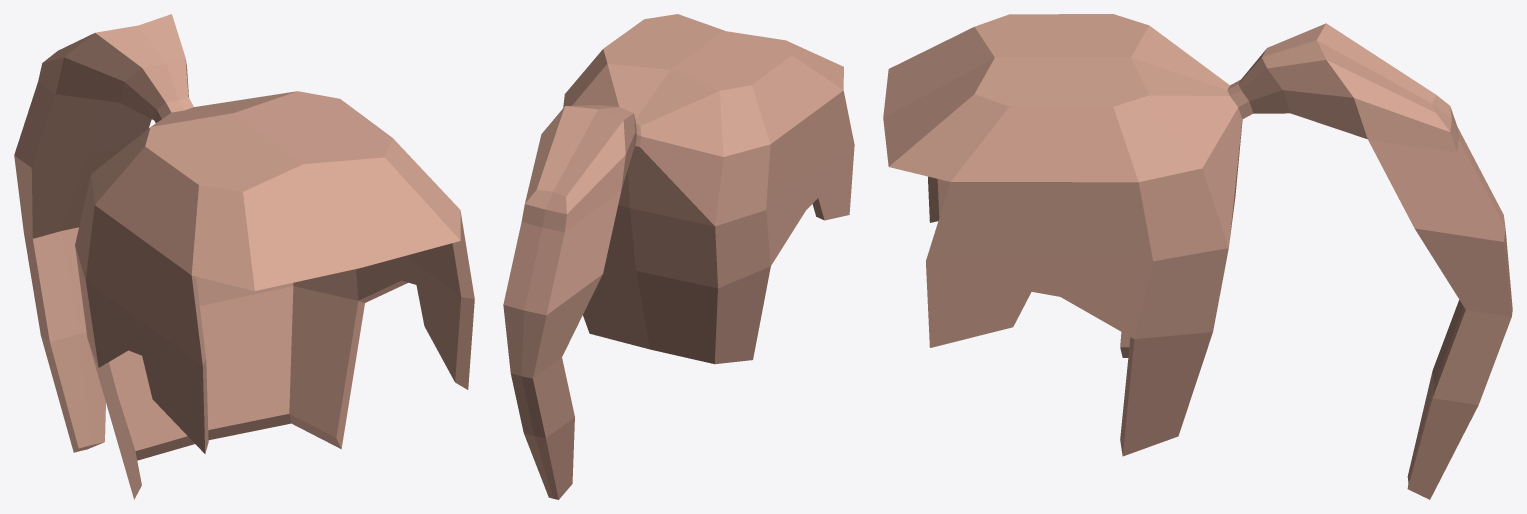
File: PonyTail.fbx
3 renders of one model, left to right at view 1: azimuth 30°, elevation 25°; view 2: azimuth 150°, elevation 25°; view 3: azimuth 270°, elevation 25°, orthographic. The views are drawn at different scales.
Visible parts, largest first — view 1: Cube.005; view 2: Cube.005; view 3: Cube.005.
Part boxes in pixels (x1,y1,x2,y2): Cube.005: [14, 14, 474, 499]; Cube.005: [503, 14, 854, 499]; Cube.005: [883, 14, 1512, 499].
Bounding box in the file's own units: 156 × 245 × 306.
